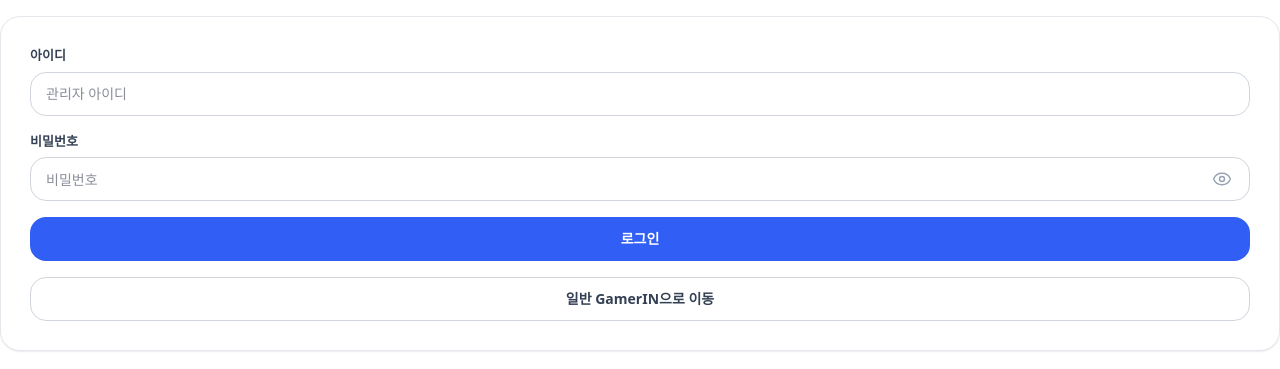
Scenario: AdminLoginForm › rejects a USER role and clears the server/local session
The image size is (1280, 369).
Type "operator" into the field labelled "아이디" at (640, 94), box [30,72,1250,116]
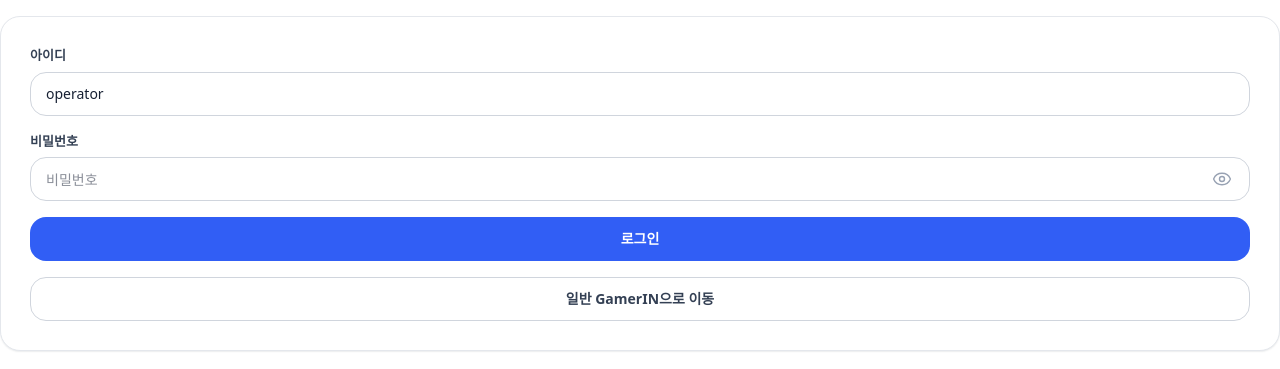
Type "password123!" into the password field labelled "비밀번호" at (640, 179), box [30,157,1250,201]
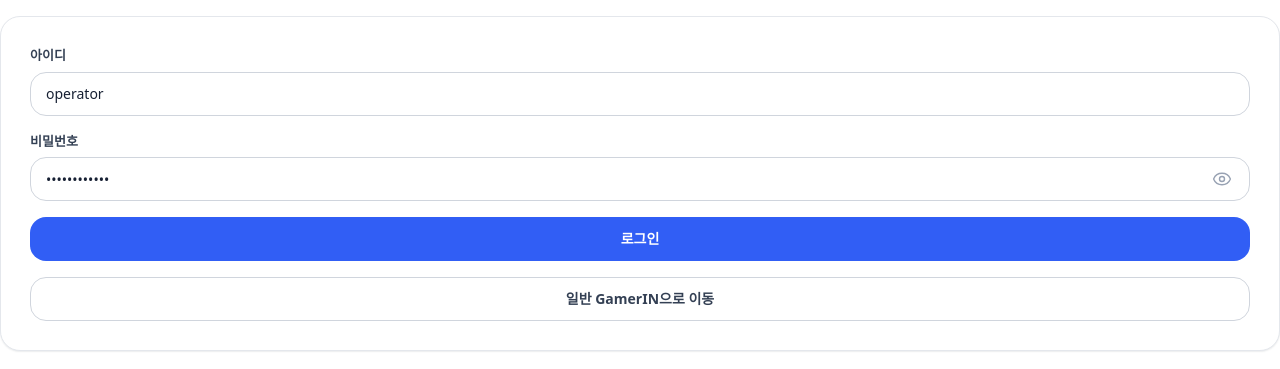
Click the button "로그인" at (640, 239), box [30,217,1250,261]
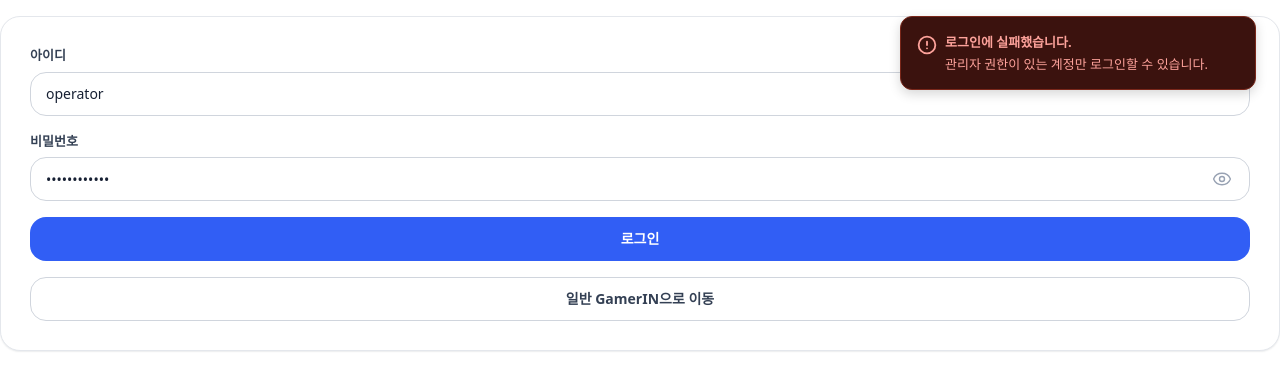
expect the message shows "관리자 권한이 있는 계정만 로그인할 수 있습니다.": met, box [945,54,1208,72]
